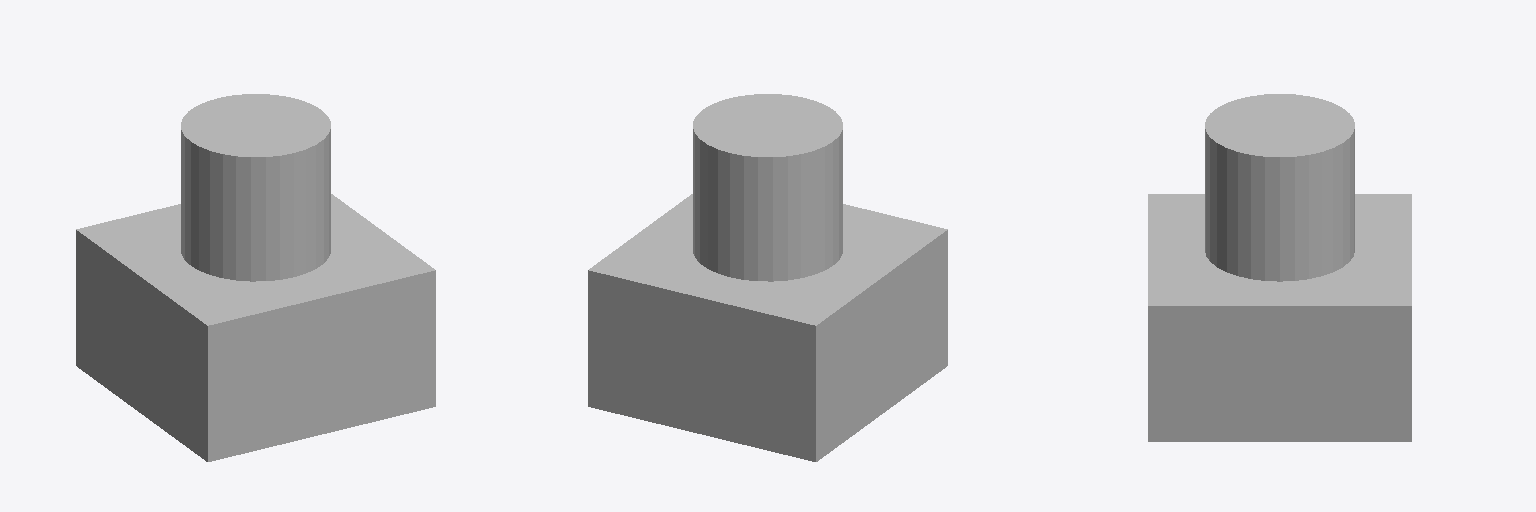
The model's file is sensor_ex.obj.
The picture shows the model from 3 angles: view 1: azimuth 30°, elevation 25°; view 2: azimuth 150°, elevation 25°; view 3: azimuth 270°, elevation 25°; orthographic projection.
Parts seen in each view (by area): view 1: sensor_ex; view 2: sensor_ex; view 3: sensor_ex.
Part boxes in pixels (x1,y1,x2,y2): sensor_ex: (76, 94, 435, 461); sensor_ex: (588, 94, 947, 461); sensor_ex: (1148, 94, 1411, 441).
Bounding box in the file's own units: 0.7 × 0.7636 × 0.7.